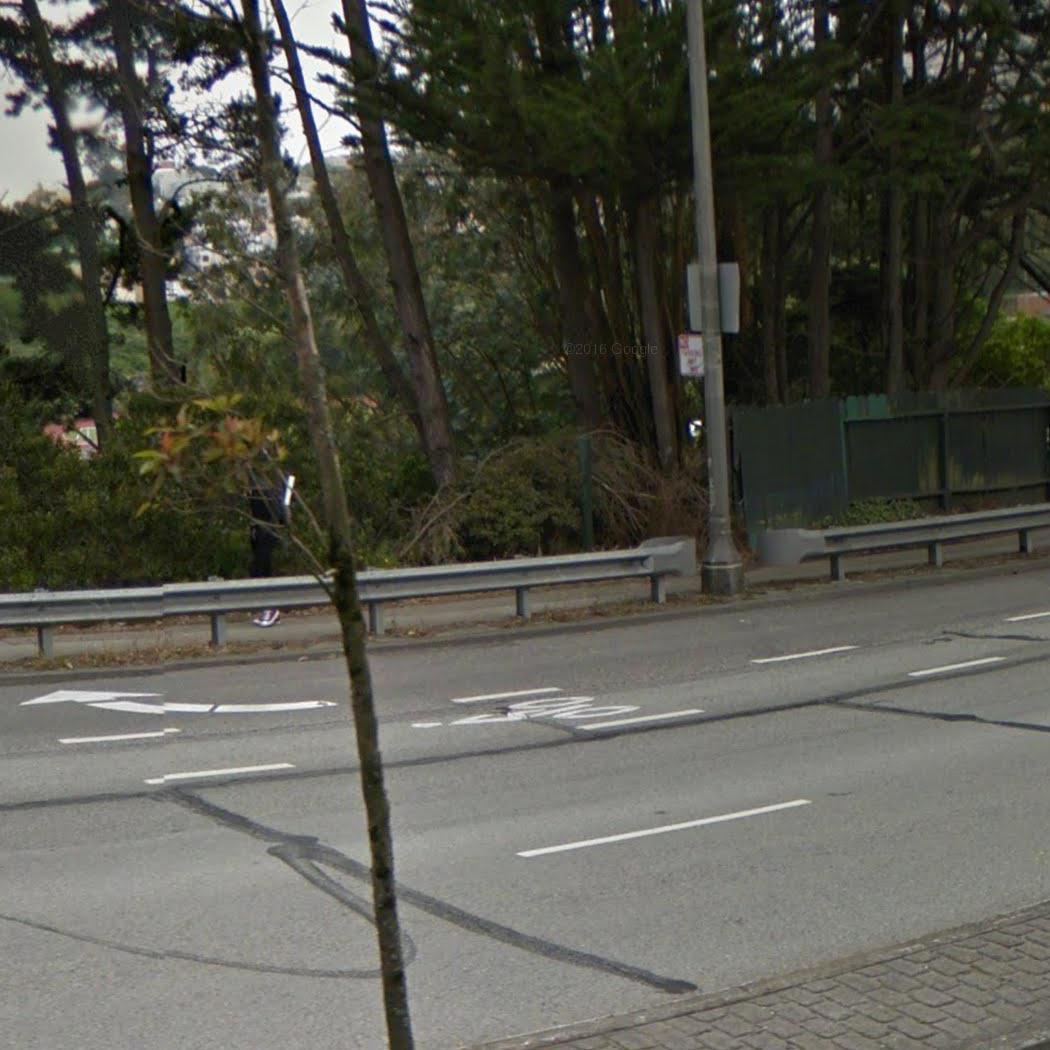No Parking: (677, 332, 707, 379)
